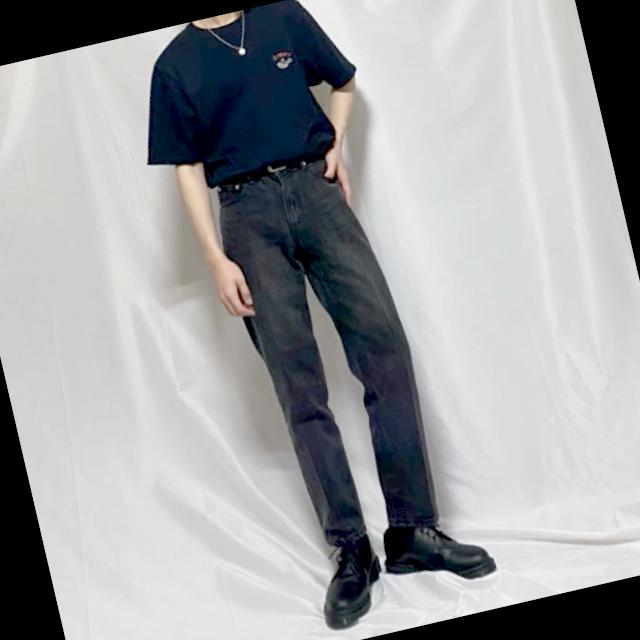denimpants: (206, 150, 450, 556)
shortsleeve: (121, 0, 374, 195)
